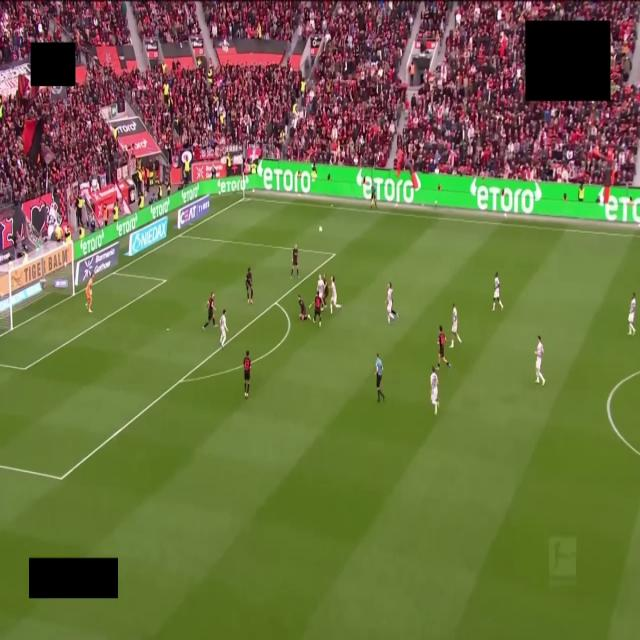ball: (319, 226, 323, 233)
player: (437, 326, 451, 369), (535, 336, 545, 385), (450, 304, 461, 348), (203, 292, 215, 329), (492, 272, 503, 311), (387, 282, 397, 323), (330, 276, 341, 313), (243, 350, 251, 398), (430, 368, 438, 415), (628, 293, 636, 335), (313, 291, 322, 327), (85, 274, 93, 312), (298, 296, 309, 320), (291, 245, 299, 278), (220, 310, 226, 348), (246, 268, 252, 303), (322, 274, 328, 307), (317, 274, 324, 298)
referee: (376, 353, 384, 401)
